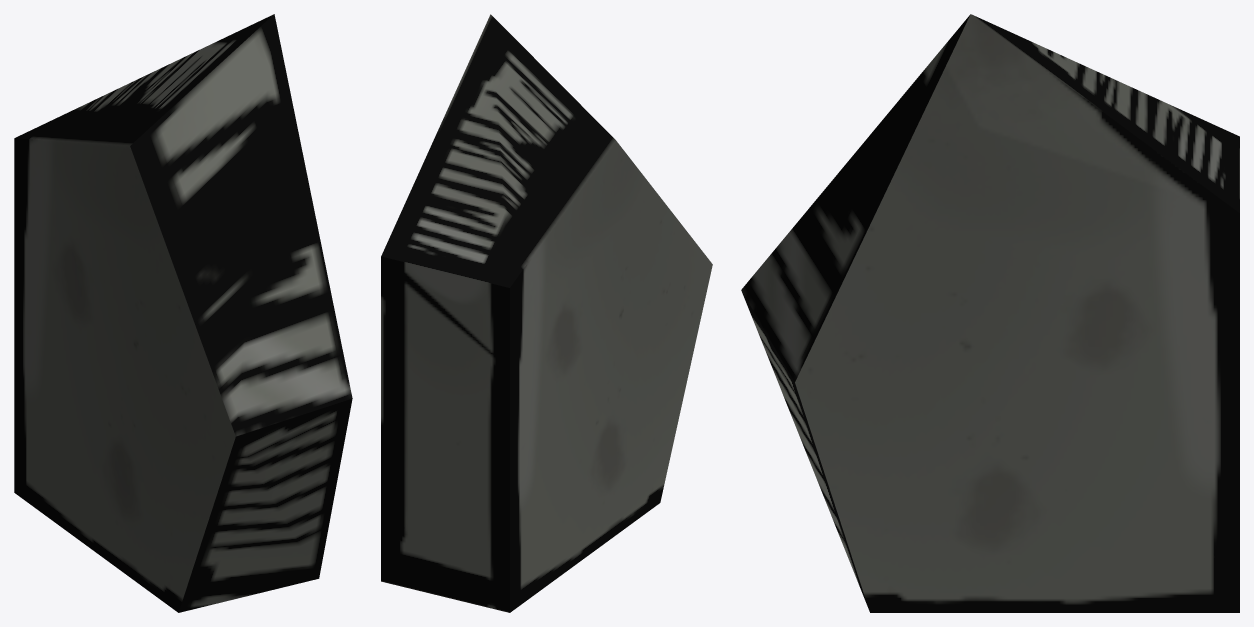
The model's file is tombstone_02_gib1.fbx.
The picture shows the model from 3 angles, left to right: view 1: azimuth 30°, elevation 25°; view 2: azimuth 150°, elevation 25°; view 3: azimuth 270°, elevation 25°; orthographic projection. The views are drawn at different scales.
Visible parts, largest first — view 1: tombstone_02_gib1; view 2: tombstone_02_gib1; view 3: tombstone_02_gib1.
Part boxes in pixels (left/top/right/bottom): tombstone_02_gib1: left=14, top=14, right=352, bottom=612; tombstone_02_gib1: left=381, top=14, right=712, bottom=612; tombstone_02_gib1: left=741, top=14, right=1239, bottom=612.
Bounding box in the file's own units: 1 × 3.62 × 2.73.
